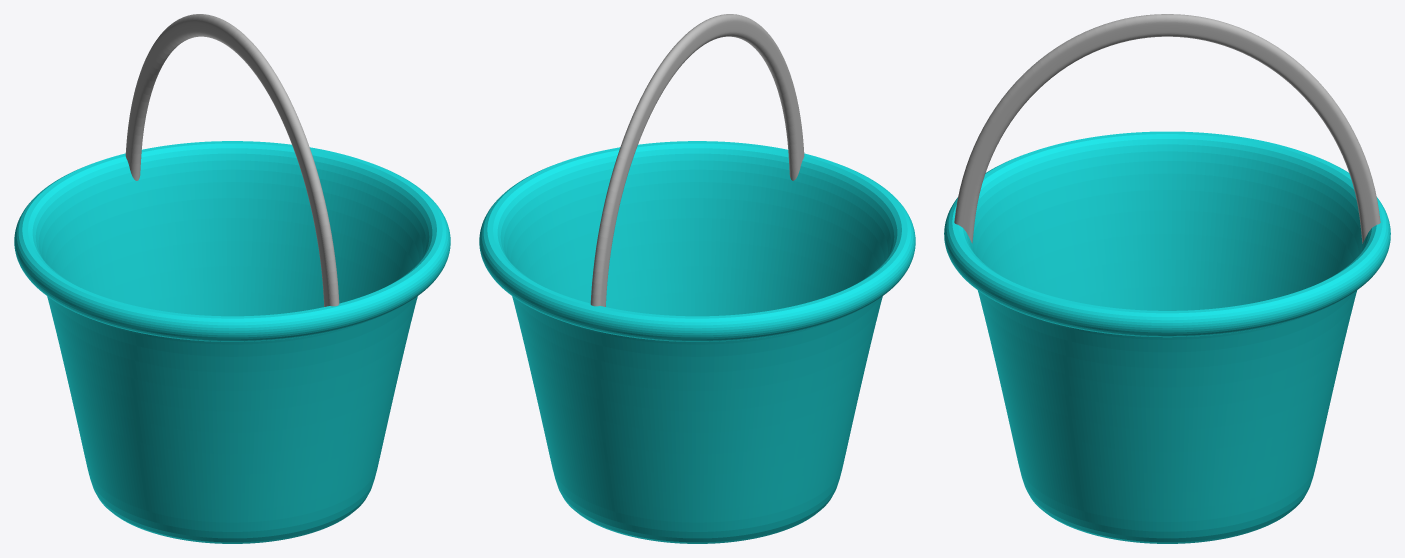
The model's file is BucketModel.fbx.
3 renders of one model, left to right at view 1: azimuth 30°, elevation 25°; view 2: azimuth 150°, elevation 25°; view 3: azimuth 270°, elevation 25°, orthographic. The views are drawn at different scales.
Parts seen in each view (by area): view 1: Sphere; view 2: Sphere; view 3: Sphere.
Boxes of the visible parts, x1,y1,x2,y2 form: Sphere: (14, 14, 450, 543); Sphere: (479, 14, 915, 543); Sphere: (944, 14, 1390, 543).
Bounding box in the file's own units: 310 × 363 × 310.
